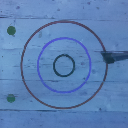Axe Tip: (100, 53, 112, 56)
